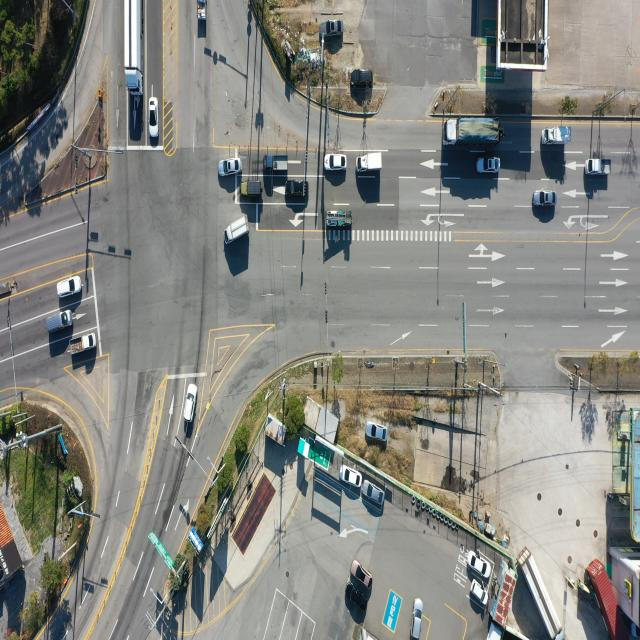car: (345, 583, 369, 612), (46, 310, 74, 333), (470, 552, 492, 580), (57, 275, 82, 299), (351, 562, 372, 589), (341, 464, 363, 488), (363, 482, 384, 507), (470, 580, 488, 608), (412, 600, 424, 640), (184, 384, 196, 422), (218, 159, 241, 178), (365, 422, 387, 441), (478, 157, 501, 175), (148, 96, 158, 137), (532, 189, 556, 206), (351, 68, 373, 86), (240, 182, 262, 200), (325, 155, 346, 172), (323, 20, 343, 37), (287, 180, 307, 196)
medium_truck: (522, 547, 565, 638), (446, 119, 504, 148), (125, 0, 143, 93)
small_truck: (224, 214, 248, 246), (68, 334, 96, 356), (544, 127, 572, 147), (326, 207, 351, 229), (356, 152, 382, 171), (586, 159, 612, 177), (266, 156, 289, 171), (195, 0, 207, 21)
